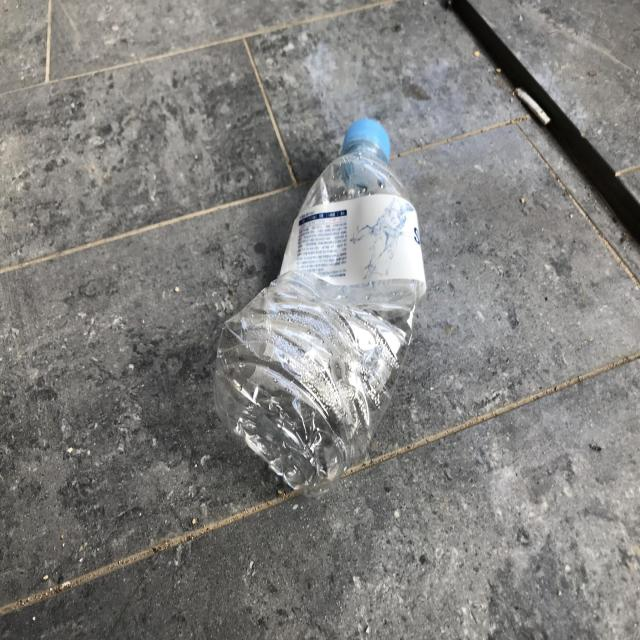plastic: (214, 118, 426, 494)
